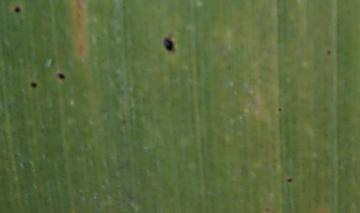tarspot: (162, 37, 176, 52), (14, 5, 23, 14), (57, 72, 66, 80), (325, 48, 333, 56), (29, 81, 38, 88), (277, 106, 283, 113), (286, 177, 293, 183), (264, 207, 271, 213)
